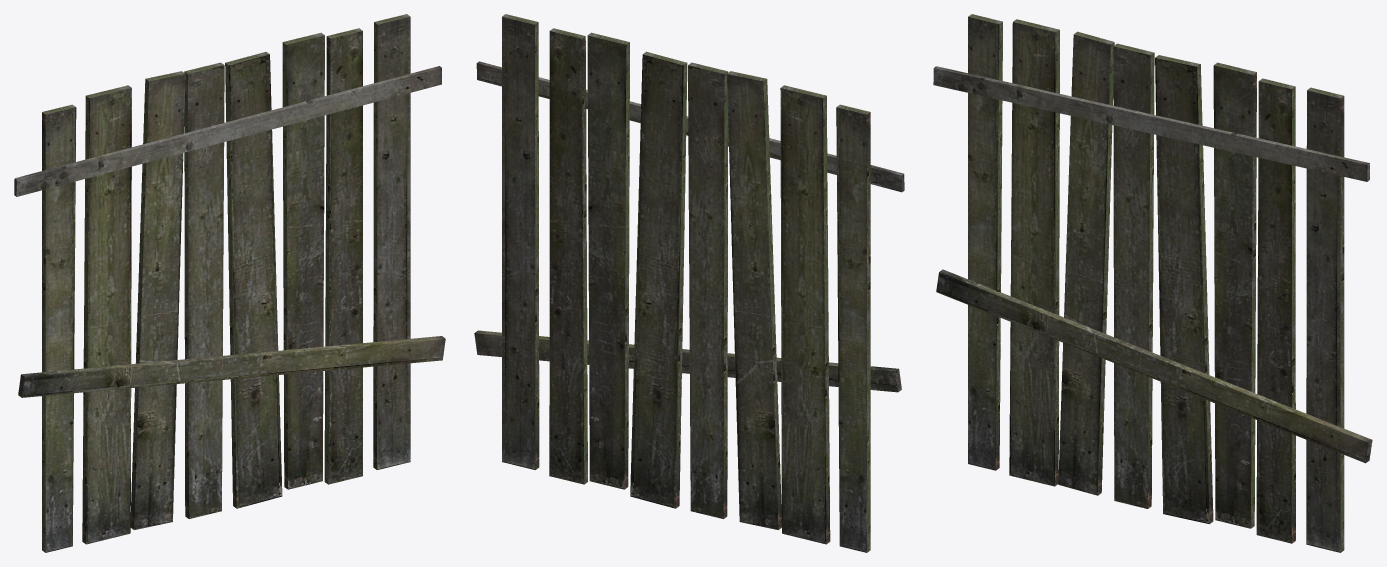
Rendered from fence.fbx.
3 renders of one model, left to right at view 1: azimuth 30°, elevation 25°; view 2: azimuth 150°, elevation 25°; view 3: azimuth 330°, elevation 25°, orthographic. The views are drawn at different scales.
Visible parts, largest first — view 1: skin.010; view 2: skin.010; view 3: skin.010.
Boxes of the visible parts, x1,y1,x2,y2 form: skin.010: (14,14,445,552); skin.010: (474,14,904,552); skin.010: (933,14,1372,552).
Bounding box in the file's own units: 171 × 173 × 5.19.
